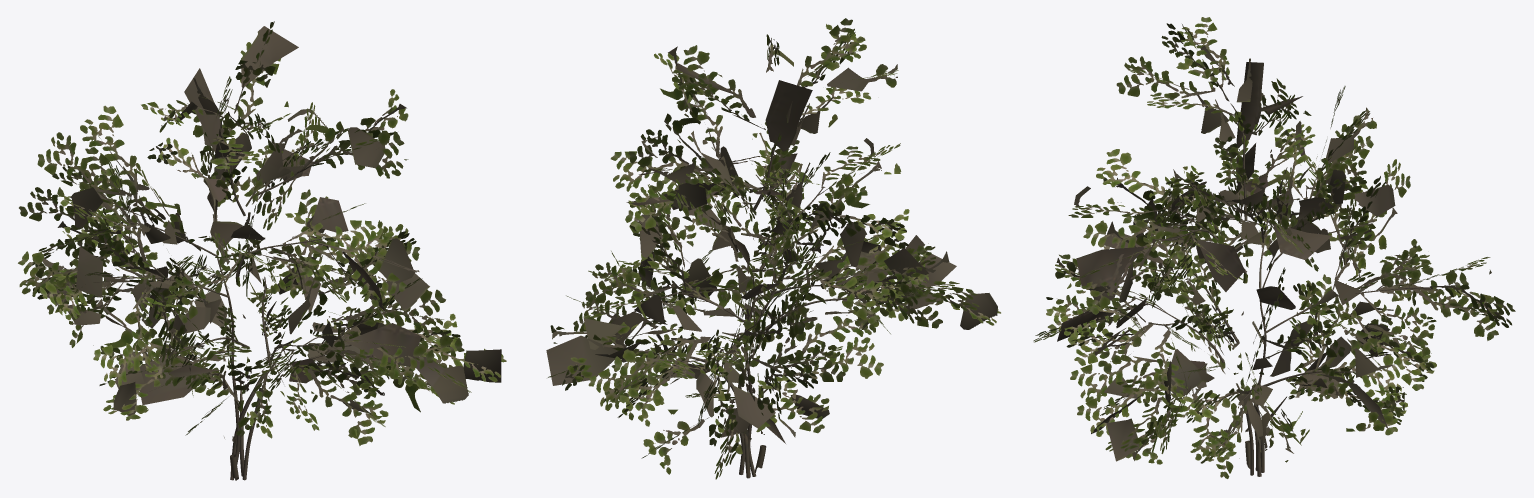
Rendered from SM_BlackAlder_Sapling_06_PP_LOD1.gltf.
3 renders of one model, left to right at view 1: azimuth 30°, elevation 25°; view 2: azimuth 150°, elevation 25°; view 3: azimuth 270°, elevation 25°, orthographic. The views are drawn at different scales.
Visible parts, largest first — view 1: SM_BlackAlder_Sapling_06_PP; view 2: SM_BlackAlder_Sapling_06_PP; view 3: SM_BlackAlder_Sapling_06_PP.
Boxes of the visible parts, bbox=[...] form: SM_BlackAlder_Sapling_06_PP: bbox=[18, 21, 506, 480]; SM_BlackAlder_Sapling_06_PP: bbox=[546, 18, 1000, 479]; SM_BlackAlder_Sapling_06_PP: bbox=[1033, 17, 1515, 478].
Size of the model in its own units: 3.63 by 3.76 by 3.88.
Materials: 1 (1 with a texture image).
